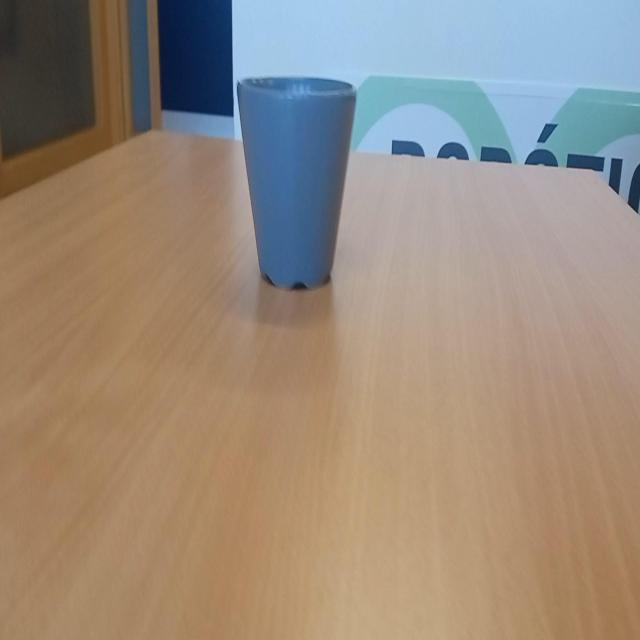cup: (235, 66, 360, 294)
